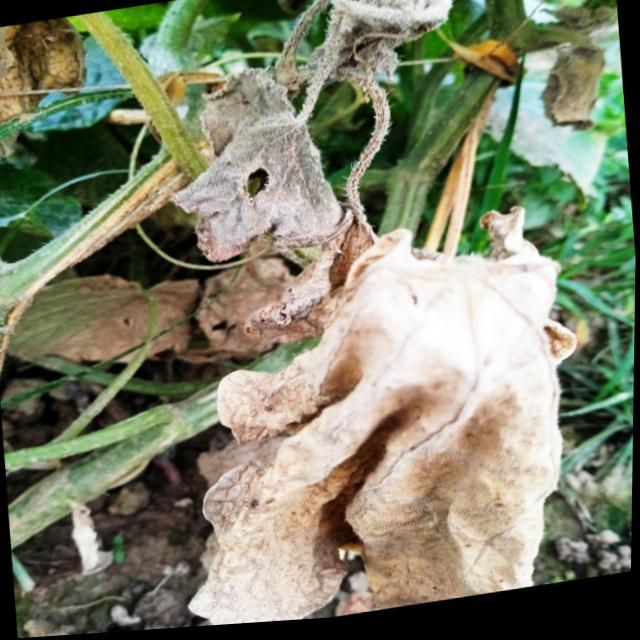Bacterial-Wilt: (189, 209, 583, 629), (166, 68, 341, 272)
